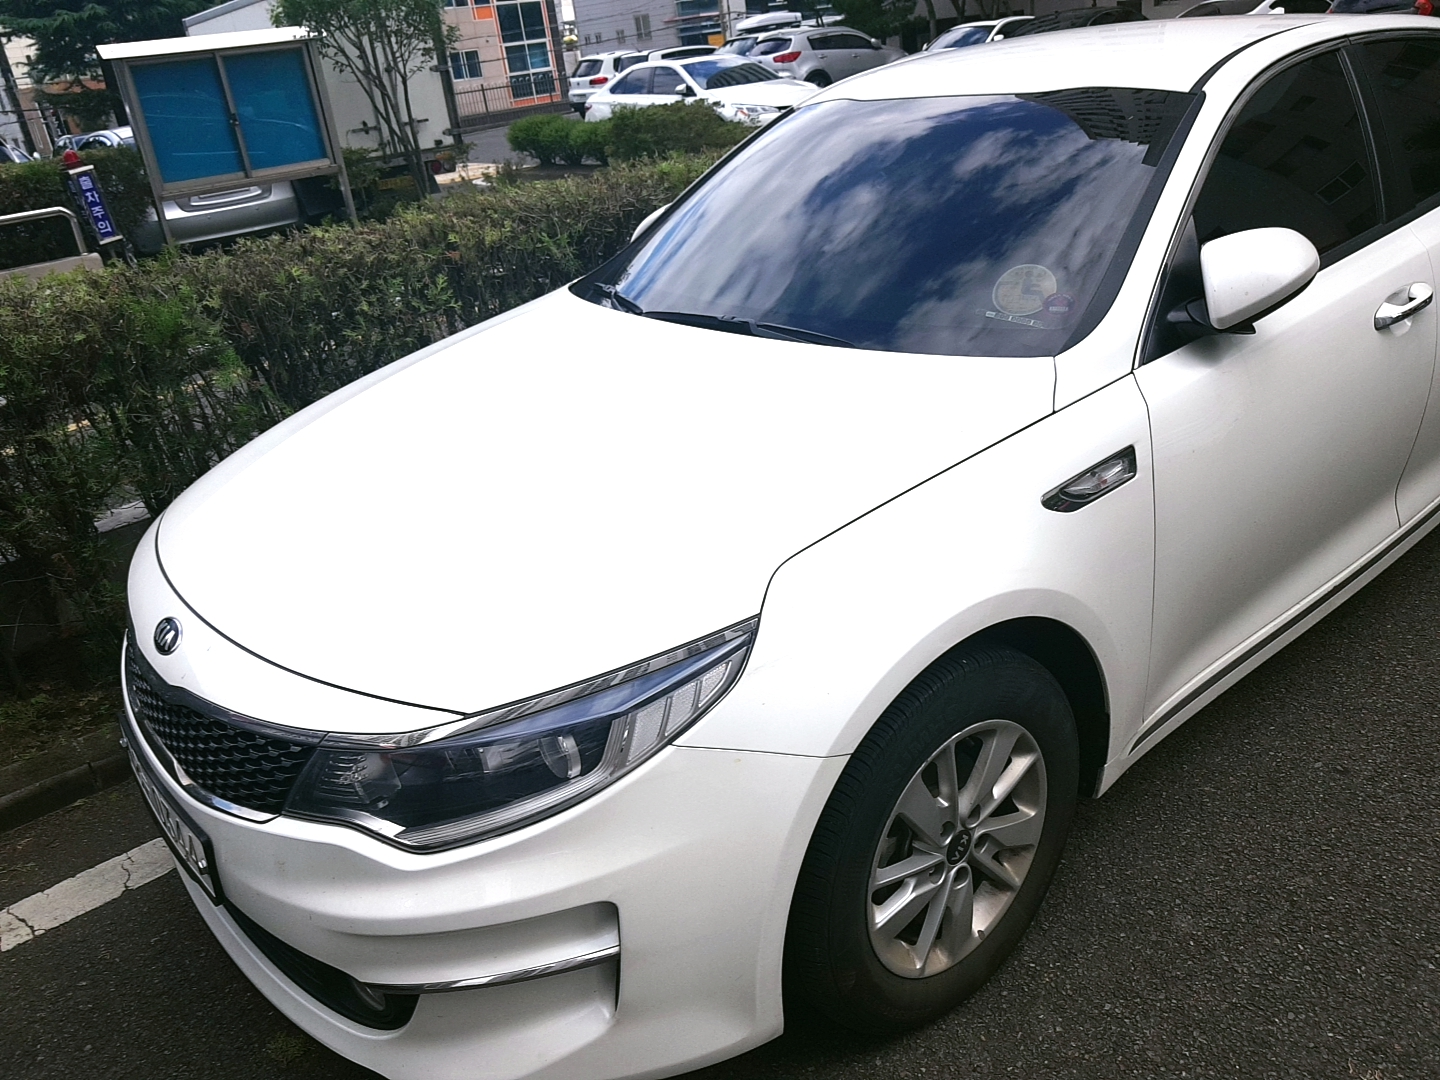disabled_parking: (989, 258, 1059, 319)
